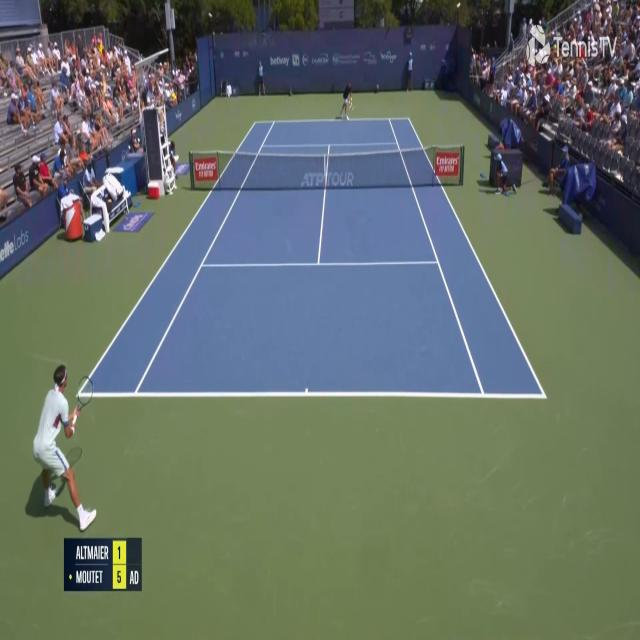tennis-player: (22, 357, 104, 534), (339, 80, 355, 120)
